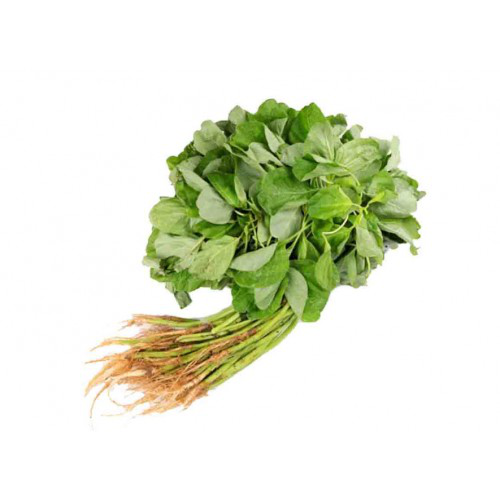Bayam: (77, 40, 442, 437)
